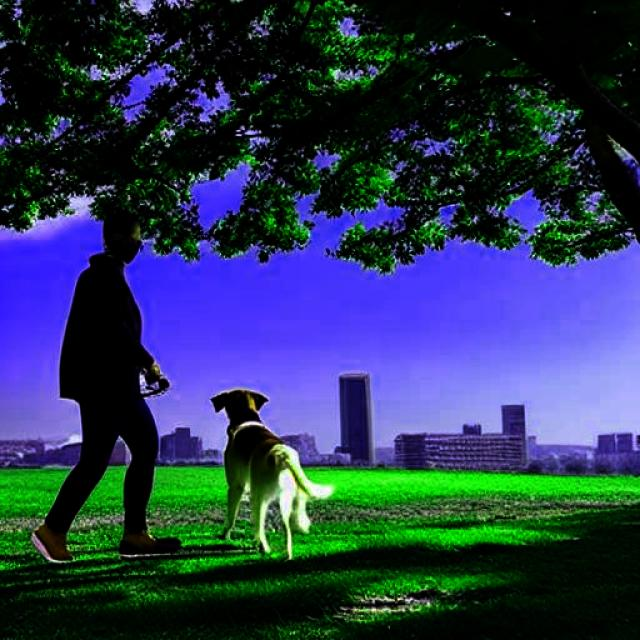Unleashed_Dog: (31, 390, 337, 564)
